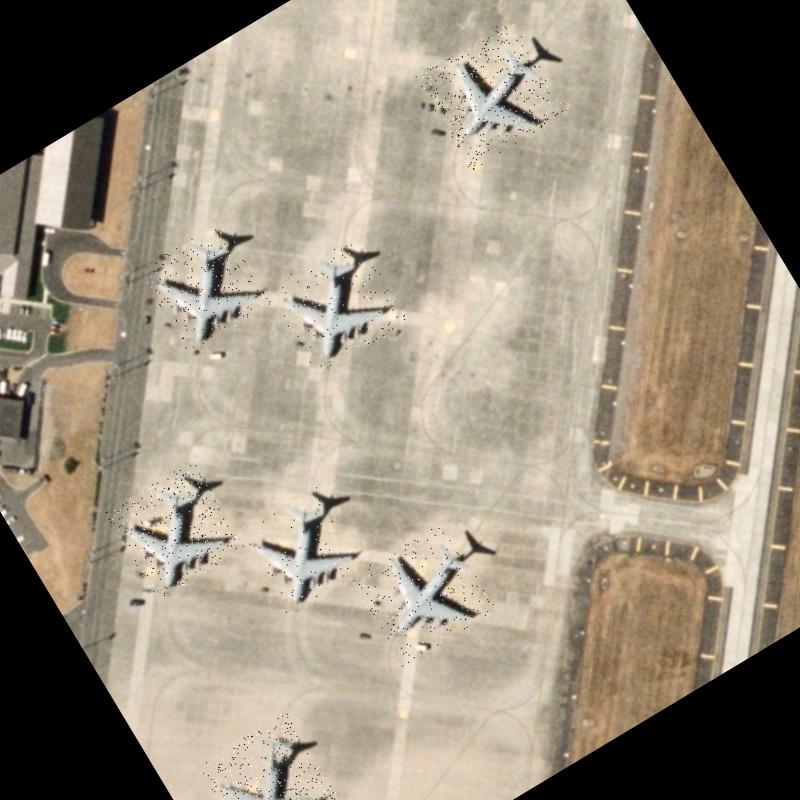A3: (414, 17, 568, 170), (348, 520, 496, 666), (266, 234, 408, 376), (104, 460, 246, 600), (137, 218, 272, 354), (234, 482, 366, 615), (195, 710, 344, 800)
